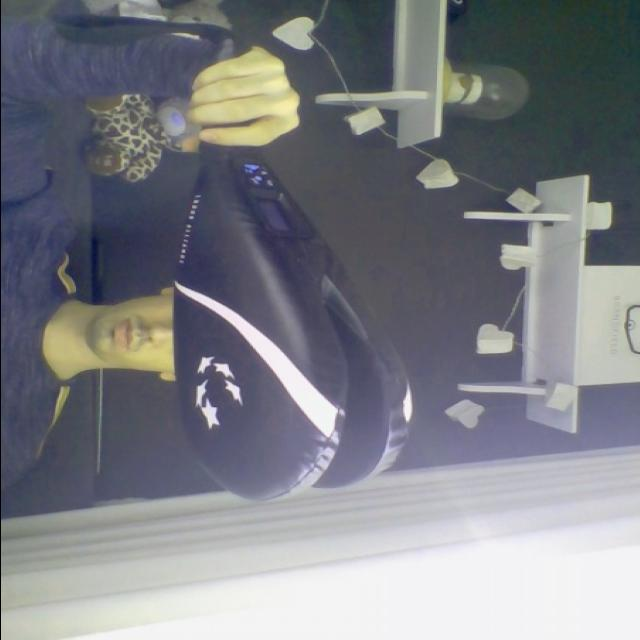paddle: (168, 41, 415, 502)
